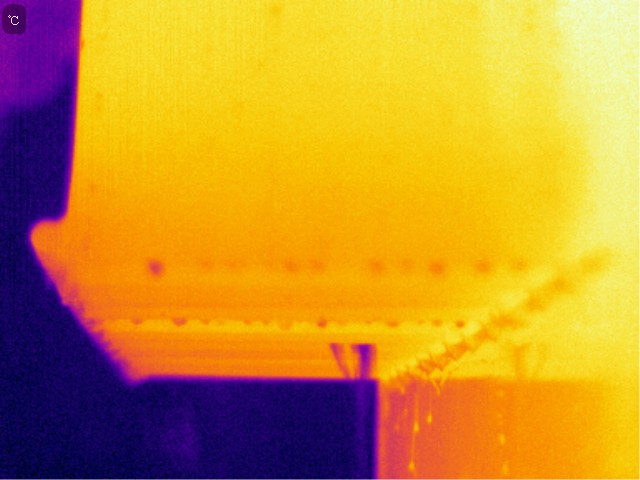Water: (330, 345, 379, 378), (140, 257, 169, 280), (308, 263, 330, 276), (474, 262, 493, 277), (127, 312, 147, 326), (370, 261, 390, 275), (170, 313, 187, 328), (430, 265, 449, 277), (281, 260, 300, 272), (313, 316, 330, 329), (385, 318, 401, 330), (431, 317, 446, 327), (453, 318, 465, 328), (259, 320, 272, 329), (244, 319, 254, 326)
